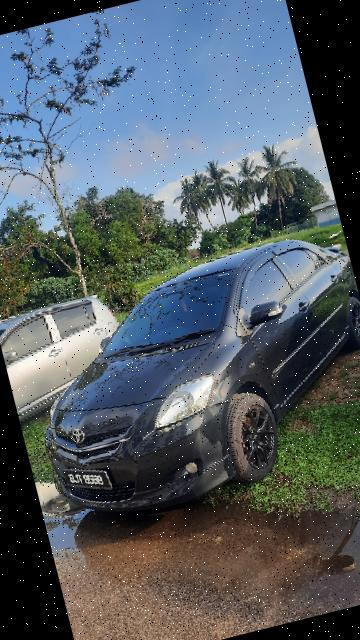License_Plate: (61, 457, 116, 503)
car: (6, 222, 360, 535)
